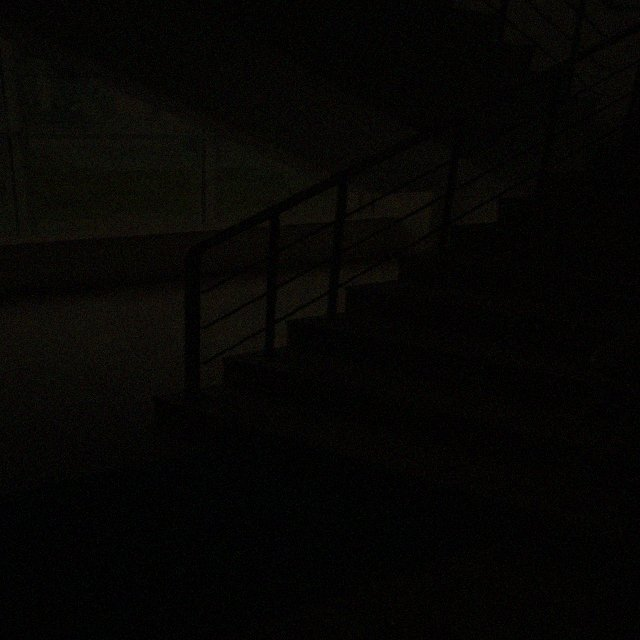stair: (155, 0, 639, 567)
